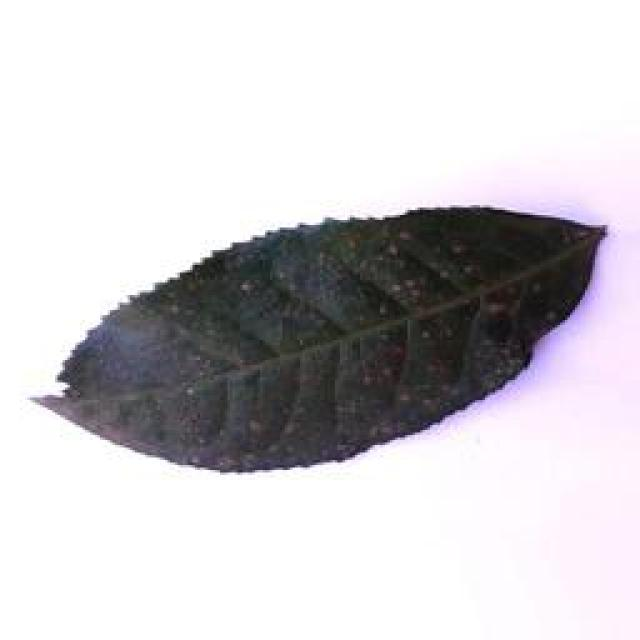Algal Leaf Spot: (22, 189, 617, 479)
